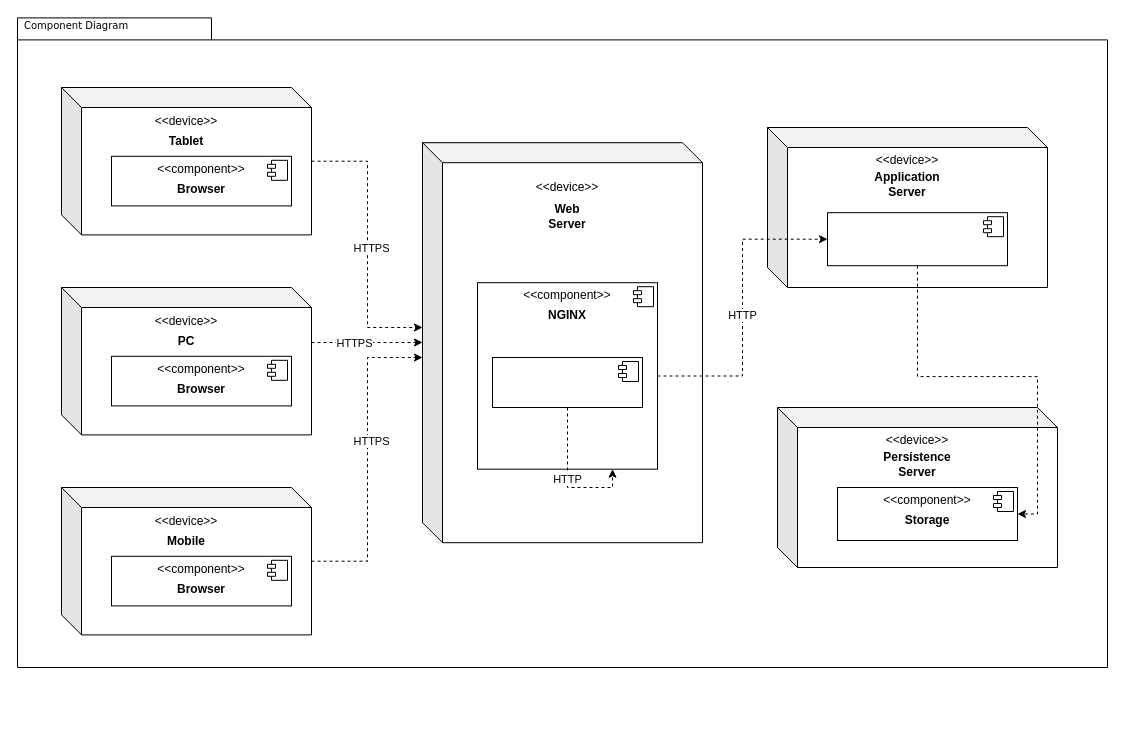
Some shapes in this 1125 by 745 pixel diagram are drawn without their labels. Each missing label, with the centre of its shape:
"<<component>> Client Application" belongs at point 567,382.
"<<component>> REST APIs" belongs at point 917,239.
